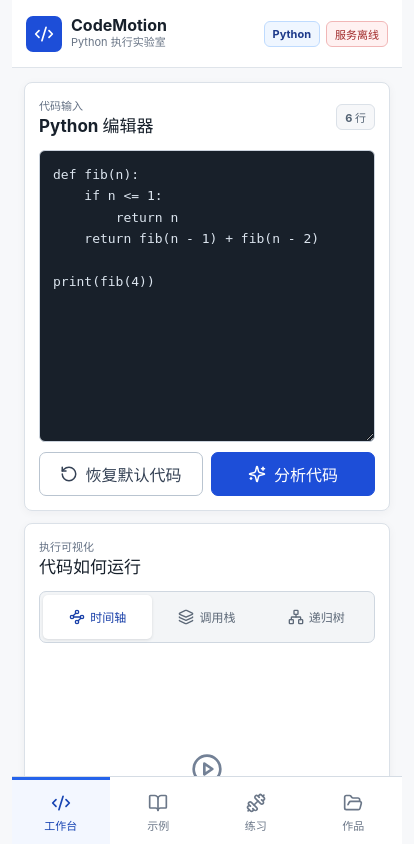
Test case: CodeMotion application › provides meaningful empty and offline states
expect the text "运行分析后，这里会显示执行时间轴。" is shown: met, box [96, 796, 318, 816]
expect the text "服务离线" is shown: met, box [326, 20, 388, 46]
Click the button "示例" at (158, 811), box [110, 777, 207, 843]
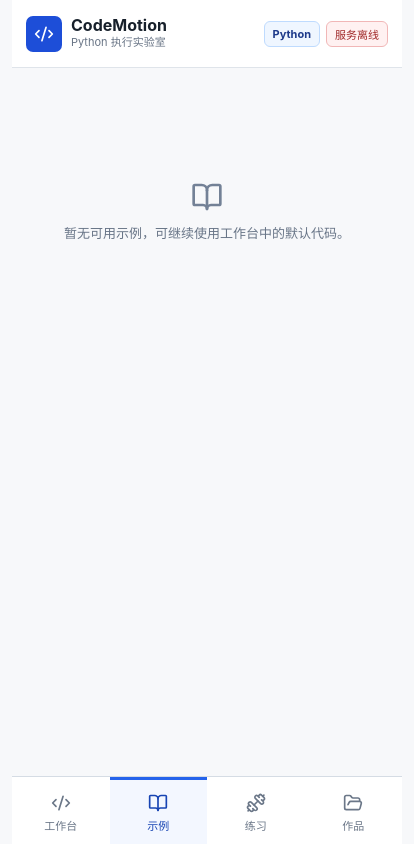
expect the text "暂无可用示例，可继续使用工作台中的默认代码。" is shown: met, box [64, 223, 350, 243]
